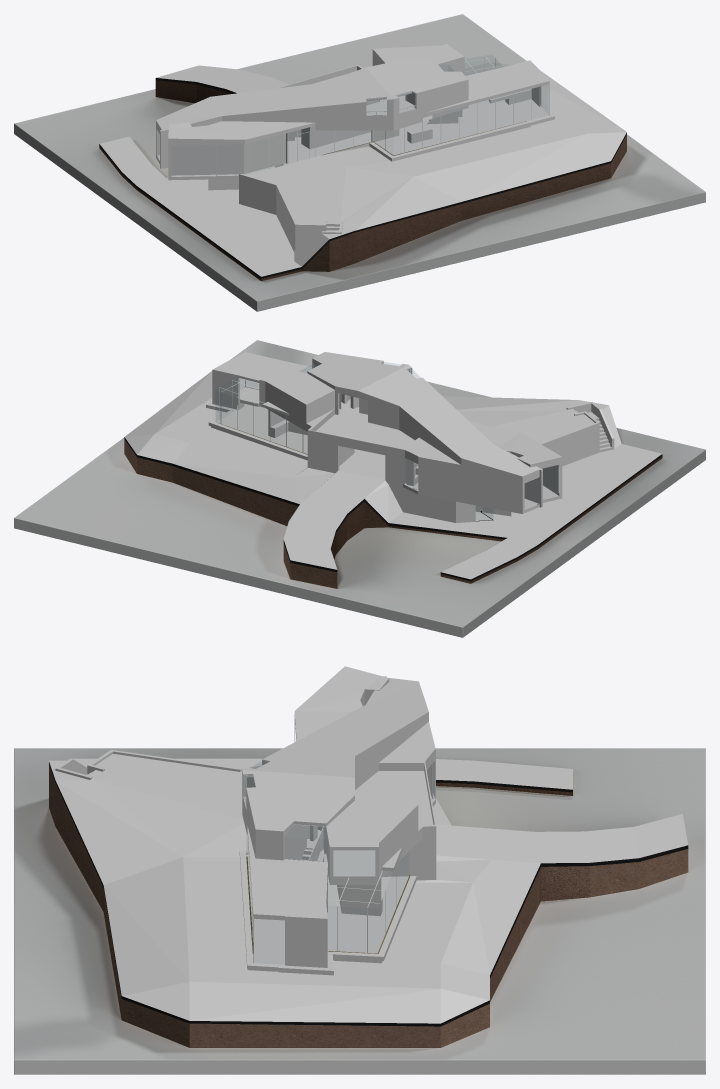
3 views of the same model, one above another, from view 1: azimuth 30°, elevation 25°; view 2: azimuth 150°, elevation 25°; view 3: azimuth 270°, elevation 25° (orthographic). The views are drawn at different scales.
Parts seen in each view (by area): view 1: BATI_BATI_0, SOCLE, COUPE_TERRAIN_BAKE.TERRE_0, COUPE_TERRAIN_BAKE.TRAIT_COUPE_0; view 2: BATI_BATI_0, SOCLE, COUPE_TERRAIN_BAKE.TERRE_0, COUPE_TERRAIN_BAKE.TRAIT_COUPE_0, VITRES_VITRES_0; view 3: BATI_BATI_0, SOCLE, COUPE_TERRAIN_BAKE.TERRE_0, COUPE_TERRAIN_BAKE.TRAIT_COUPE_0.
Part boxes in pixels (<box>): BATI_BATI_0: <box>100,44,626,276</box>; SOCLE: <box>14,14,705,311</box>; COUPE_TERRAIN_BAKE.TERRE_0: <box>99,80,626,281</box>; COUPE_TERRAIN_BAKE.TRAIT_COUPE_0: <box>99,78,626,278</box>; BATI_BATI_0: <box>125,352,661,579</box>; SOCLE: <box>14,340,705,637</box>; COUPE_TERRAIN_BAKE.TERRE_0: <box>124,439,662,588</box>; COUPE_TERRAIN_BAKE.TRAIT_COUPE_0: <box>124,437,662,581</box>; VITRES_VITRES_0: <box>216,362,492,518</box>; BATI_BATI_0: <box>49,666,687,1023</box>; SOCLE: <box>14,748,705,1074</box>; COUPE_TERRAIN_BAKE.TERRE_0: <box>49,764,688,1047</box>; COUPE_TERRAIN_BAKE.TRAIT_COUPE_0: <box>49,762,688,1026</box>.
Bounding box in the file's own units: 4565 × 982 × 4283.
